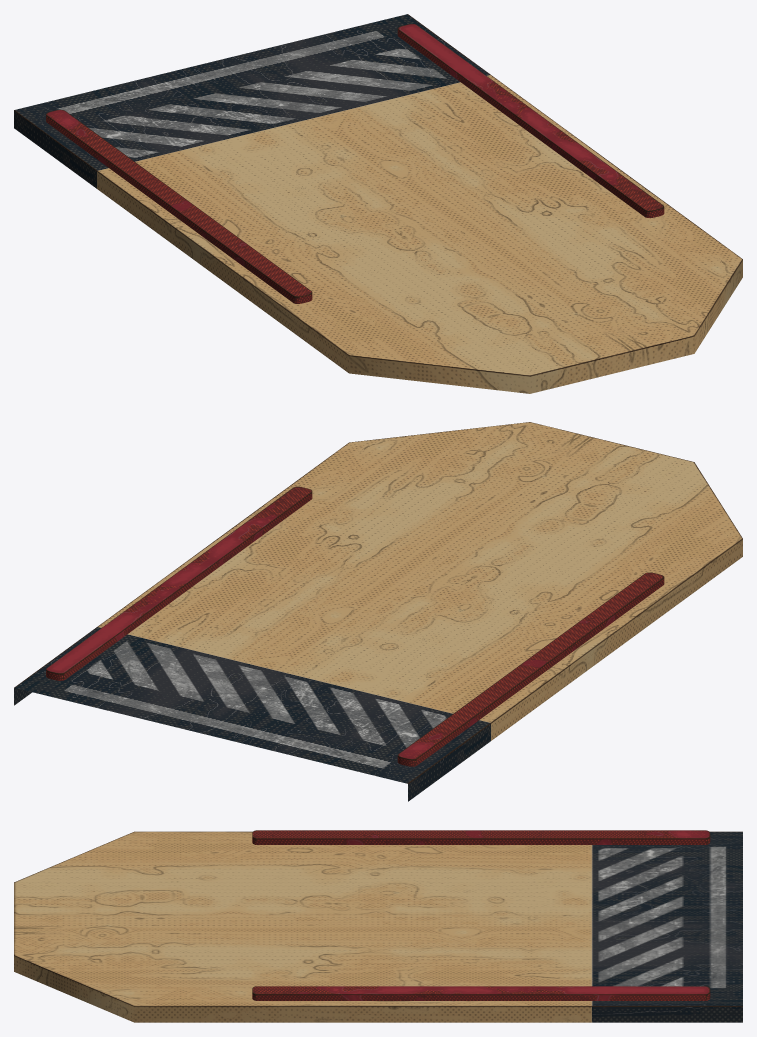
The model's file is SM_BStartLane.glb.
3 views of the same model, one above another, from view 1: azimuth 30°, elevation 25°; view 2: azimuth 150°, elevation 25°; view 3: azimuth 270°, elevation 25° (orthographic). The views are drawn at different scales.
Visible parts, largest first — view 1: SM_BStartLane; view 2: SM_BStartLane; view 3: SM_BStartLane.
Part boxes in pixels (left/top/right/bottom): SM_BStartLane: left=14, top=14, right=742, bottom=393; SM_BStartLane: left=14, top=422, right=742, bottom=801; SM_BStartLane: left=14, top=830, right=742, bottom=1022.
Size of the model in its own units: 1.9 by 0.1163 by 3.35.
Materials: 1 (1 with a texture image).
